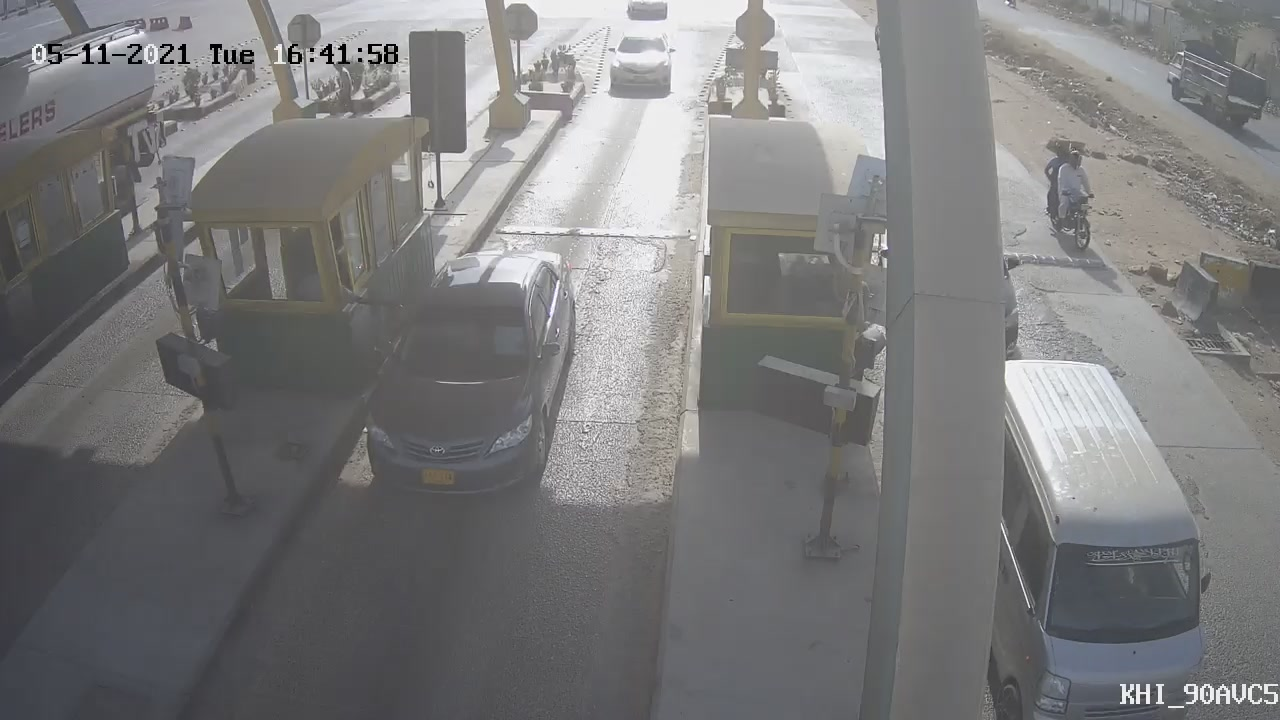F1: (346, 240, 591, 520)
